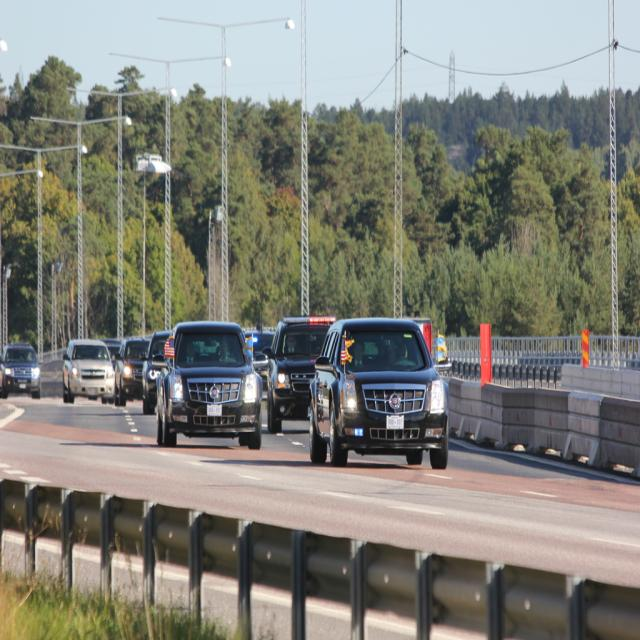car: (307, 313, 450, 467), (153, 315, 263, 458), (60, 337, 119, 403), (0, 339, 41, 395)
